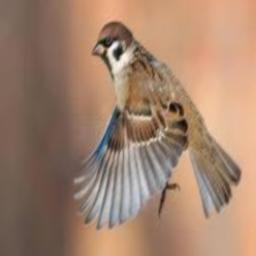Sparrow: (74, 21, 242, 229)
